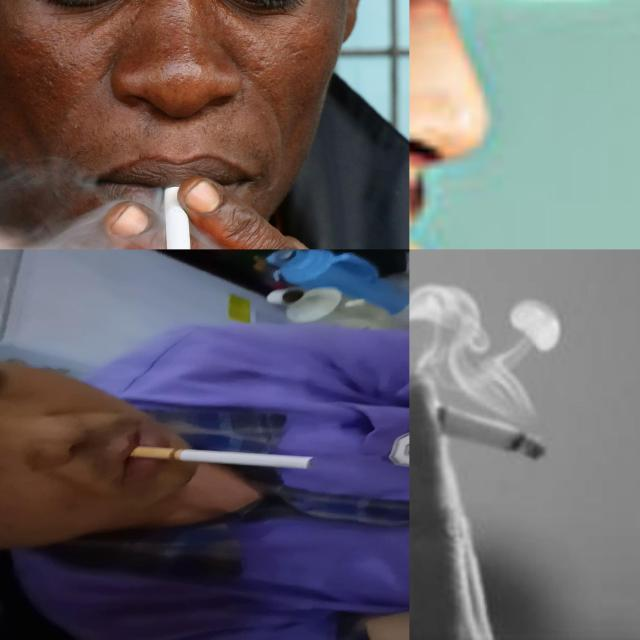smoking: (410, 385, 548, 462), (130, 446, 314, 471), (163, 174, 193, 250)
